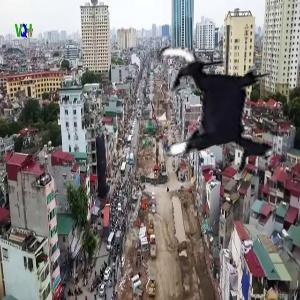drone: (128, 30, 296, 198)
